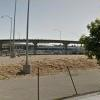Bridge: (5, 28, 82, 52)
